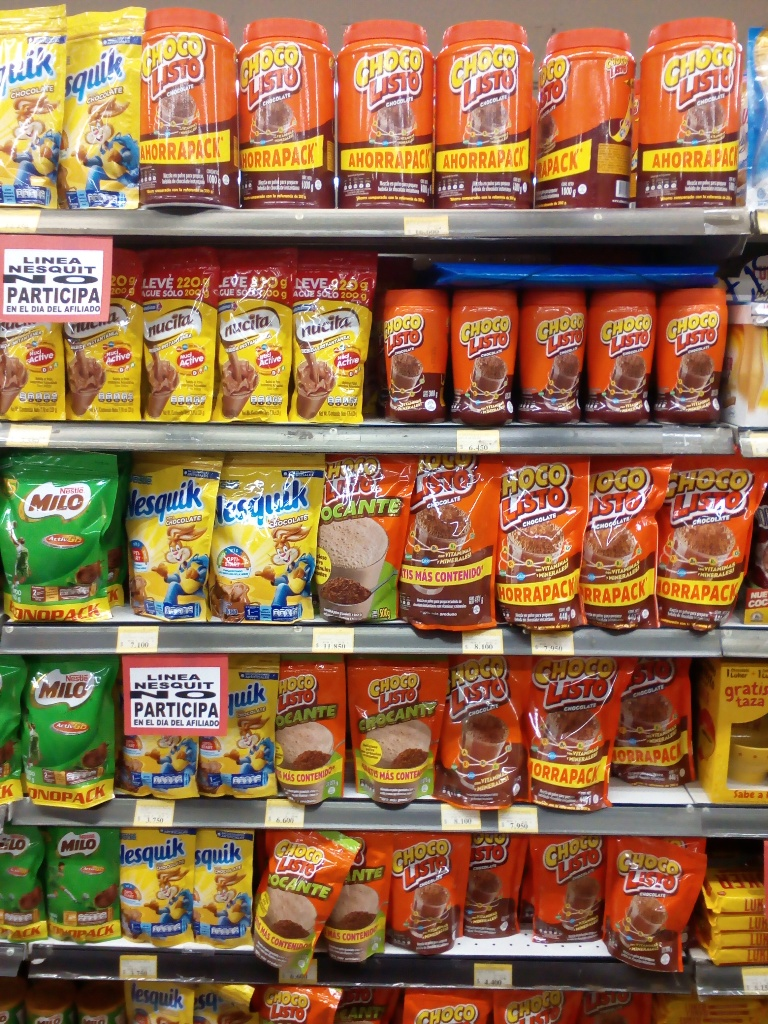COL0170102DYP50000: (306, 447, 411, 628)
COL0170103DYP44000: (655, 451, 764, 634)
COL0170103TRR00100: (630, 8, 745, 209)
COL0170203DYP50000: (2, 446, 121, 626)
COL0170303DYP20000: (118, 827, 197, 945)
